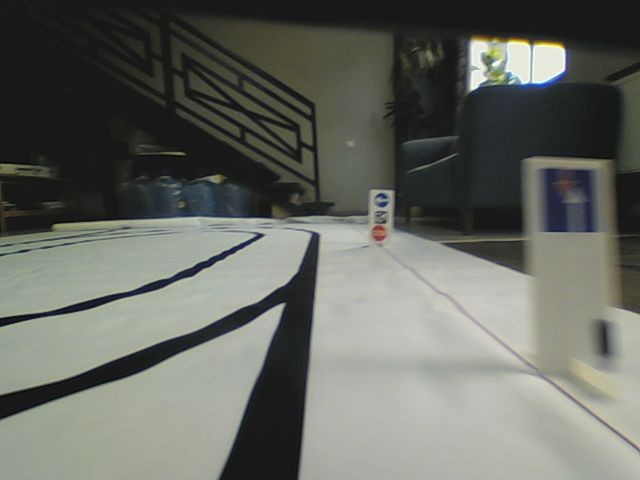priority_movement: (541, 165, 601, 236)
